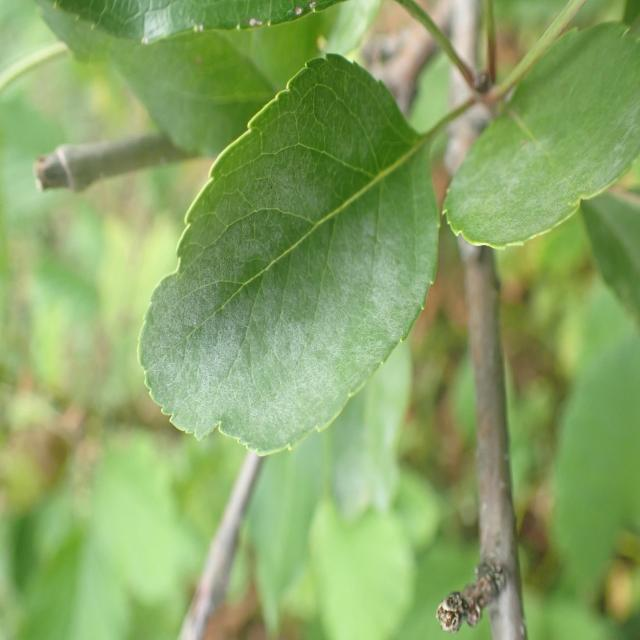Powdery_mildew: (144, 44, 442, 462), (455, 64, 640, 260)
